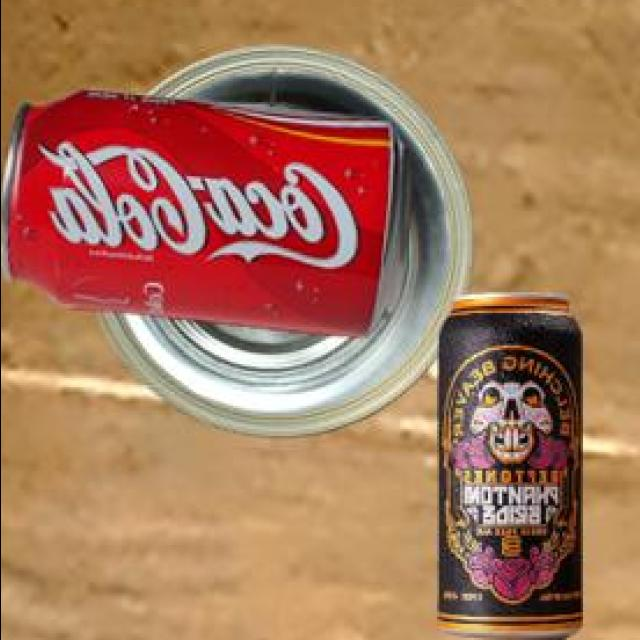logam: (92, 43, 470, 432), (0, 87, 407, 333), (435, 289, 579, 639)
